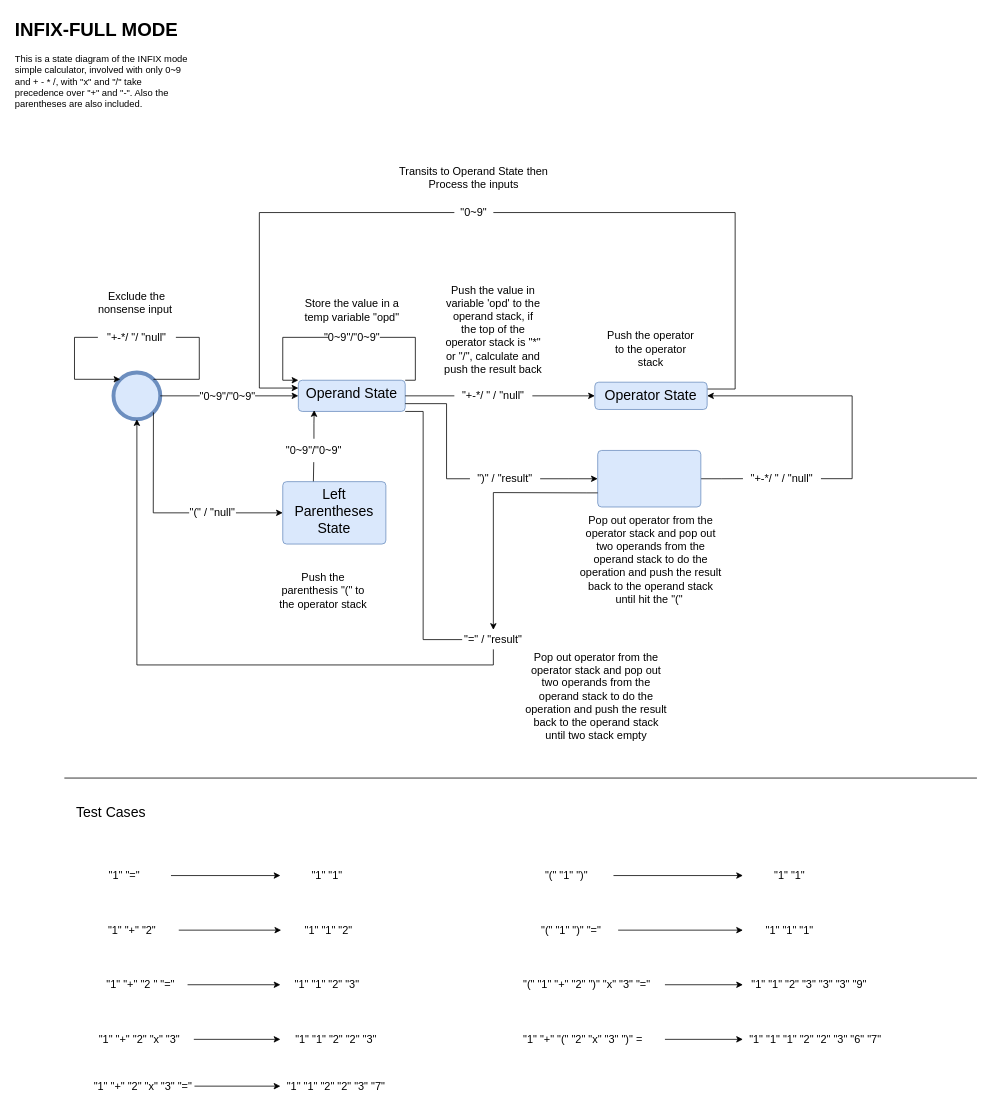
This 991x1111 diagram has some shape labels left out. Each missing label, with the box of its shape:
Clear State: (111, 370, 162, 421)
Right Parentheses State: (597, 450, 701, 507)
